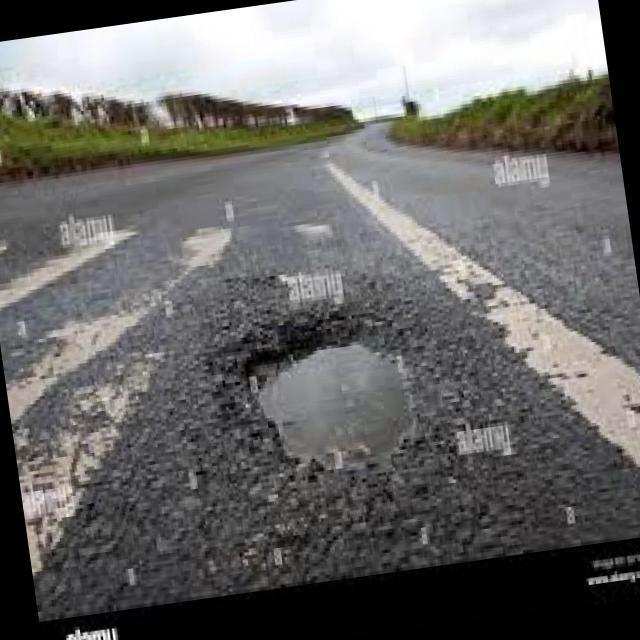pothole: (255, 344, 414, 473)
